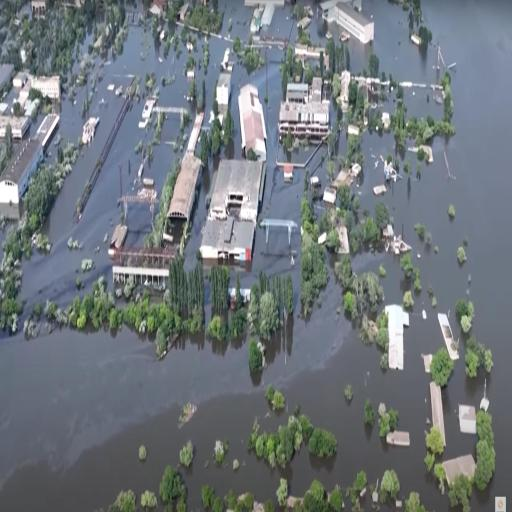flood: (0, 0, 512, 512), (184, 138, 235, 270), (46, 56, 101, 164), (178, 26, 233, 125), (60, 10, 106, 87), (143, 114, 180, 199), (202, 259, 234, 330), (299, 0, 343, 45), (405, 80, 444, 119), (218, 0, 254, 41), (344, 33, 375, 73), (260, 1, 293, 37), (125, 202, 151, 246), (371, 84, 398, 118), (278, 142, 319, 163), (307, 142, 328, 173), (23, 109, 45, 137), (312, 155, 330, 189), (23, 111, 46, 137), (325, 93, 338, 128), (179, 121, 194, 146), (334, 131, 348, 156), (18, 1, 33, 22), (0, 228, 8, 266), (289, 19, 298, 45), (0, 21, 10, 36)
house: (200, 154, 267, 275), (279, 75, 333, 152), (162, 147, 200, 251), (0, 137, 46, 211), (234, 81, 271, 164), (380, 299, 414, 377), (334, 0, 377, 46), (32, 70, 63, 100), (0, 113, 32, 137), (145, 0, 169, 17), (27, 0, 49, 17)
